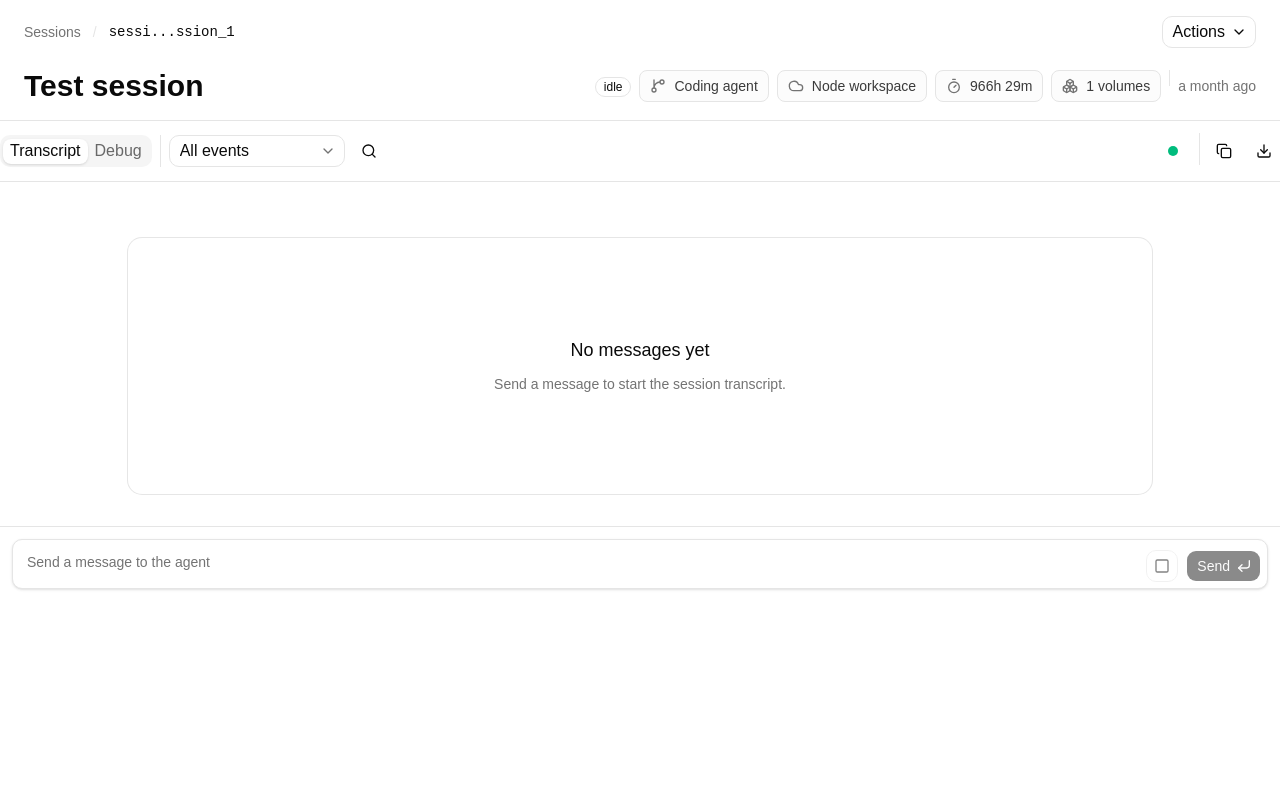
Scenario: SessionDetailView › opens volumes sheet when volumes meta button is clicked
The image size is (1280, 800).
Click the button with aria-label "Open session volumes" at (1106, 86), box [1051, 70, 1161, 102]
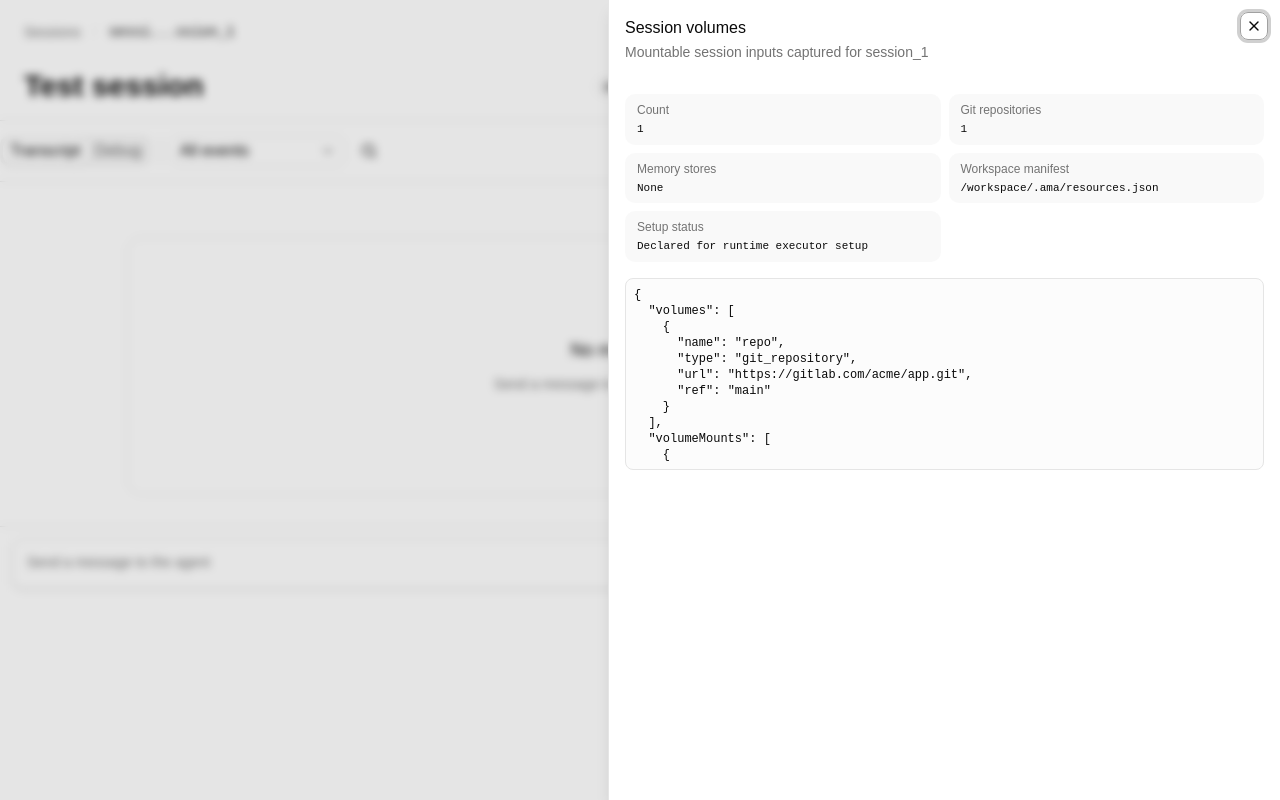
Expected: the heading "Session volumes" is shown, [625, 19, 746, 36]
Expected: the text "Git repositories" is shown, [960, 103, 1041, 117]
